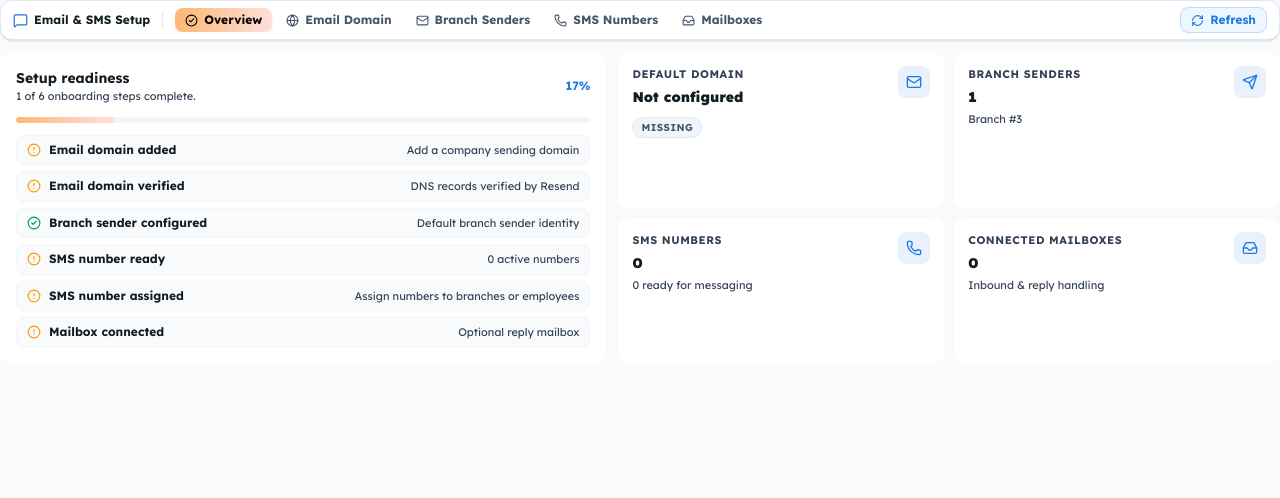
Scenario: sends a test from Branch Senders using the saved sender
Step 1. Click the button "Branch Senders" → (473, 20), box [406,8,540,32]
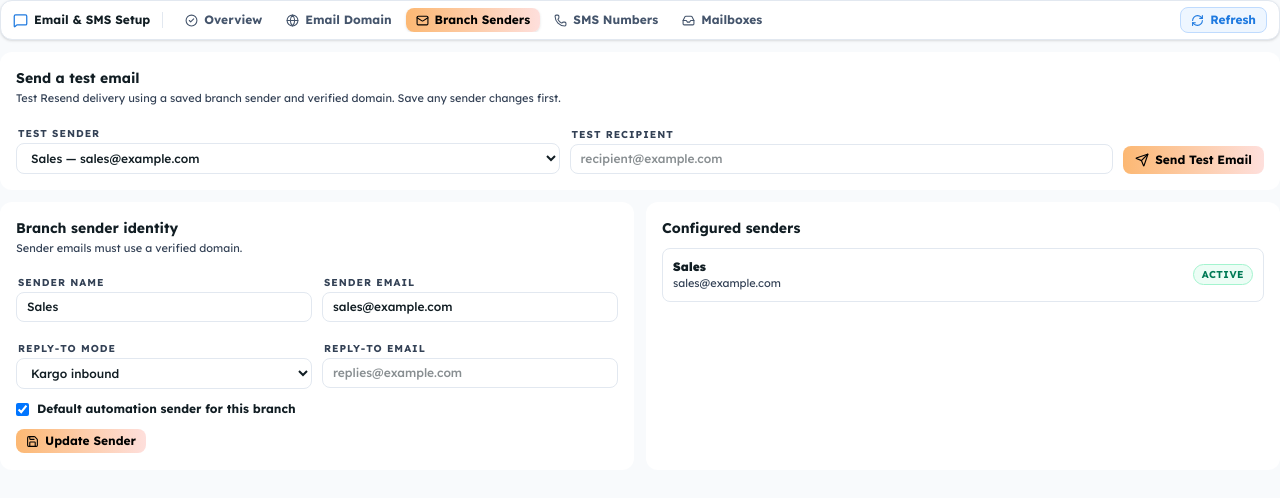
Expected: the button "Send Test Email" is enabled, [1123,146,1264,174]
Step 2. Type " test@example.com " into the field labelled "Test recipient" → (841, 158), box [570,144,1113,174]
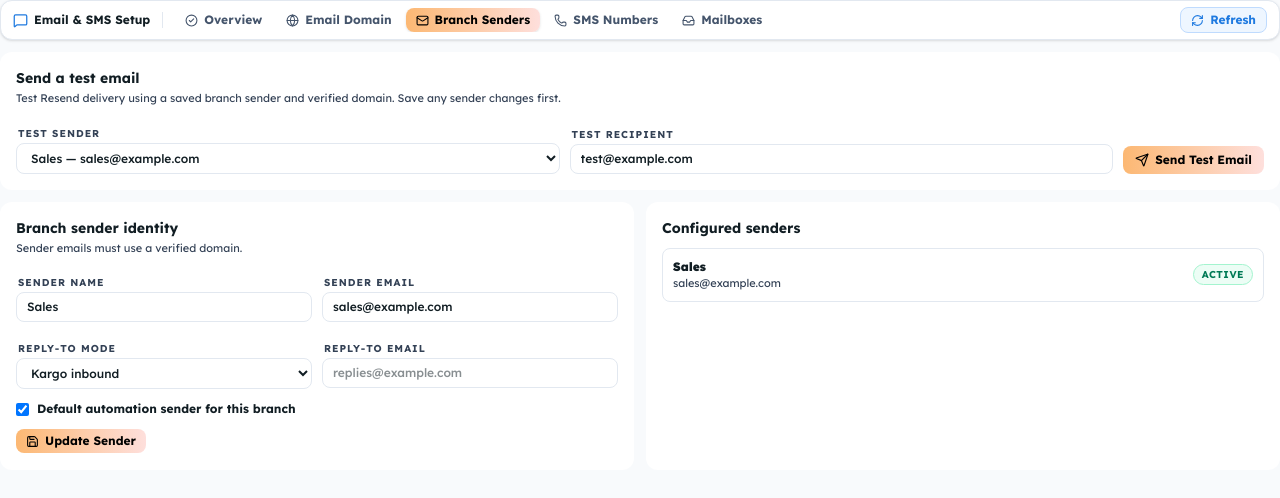
Step 3. Click the button "Send Test Email" → (1194, 160), box [1123,146,1264,174]
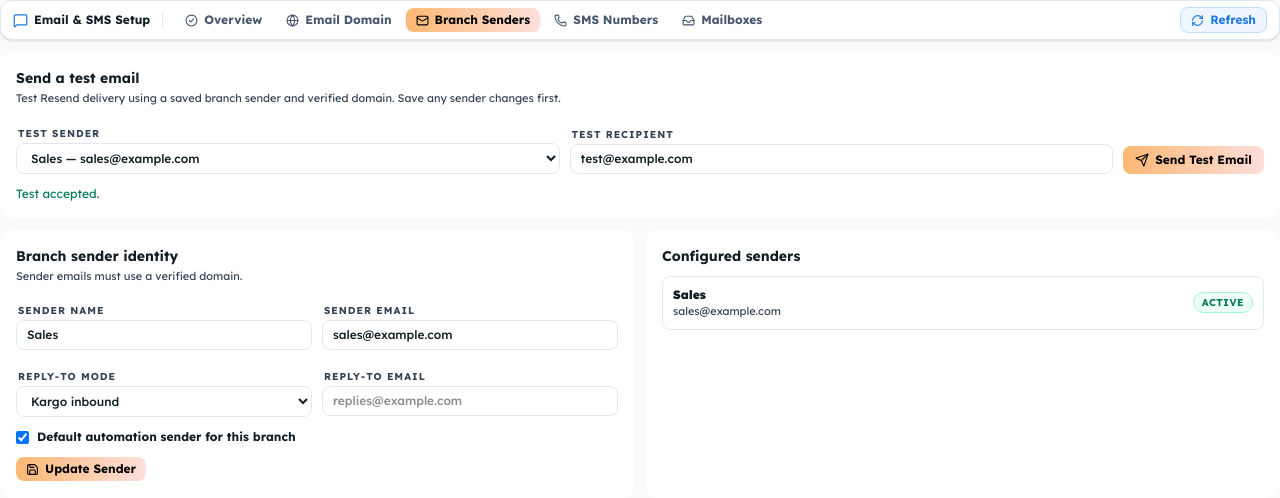
Expected: the message reads "Test accepted.", [16,186,99,200]
